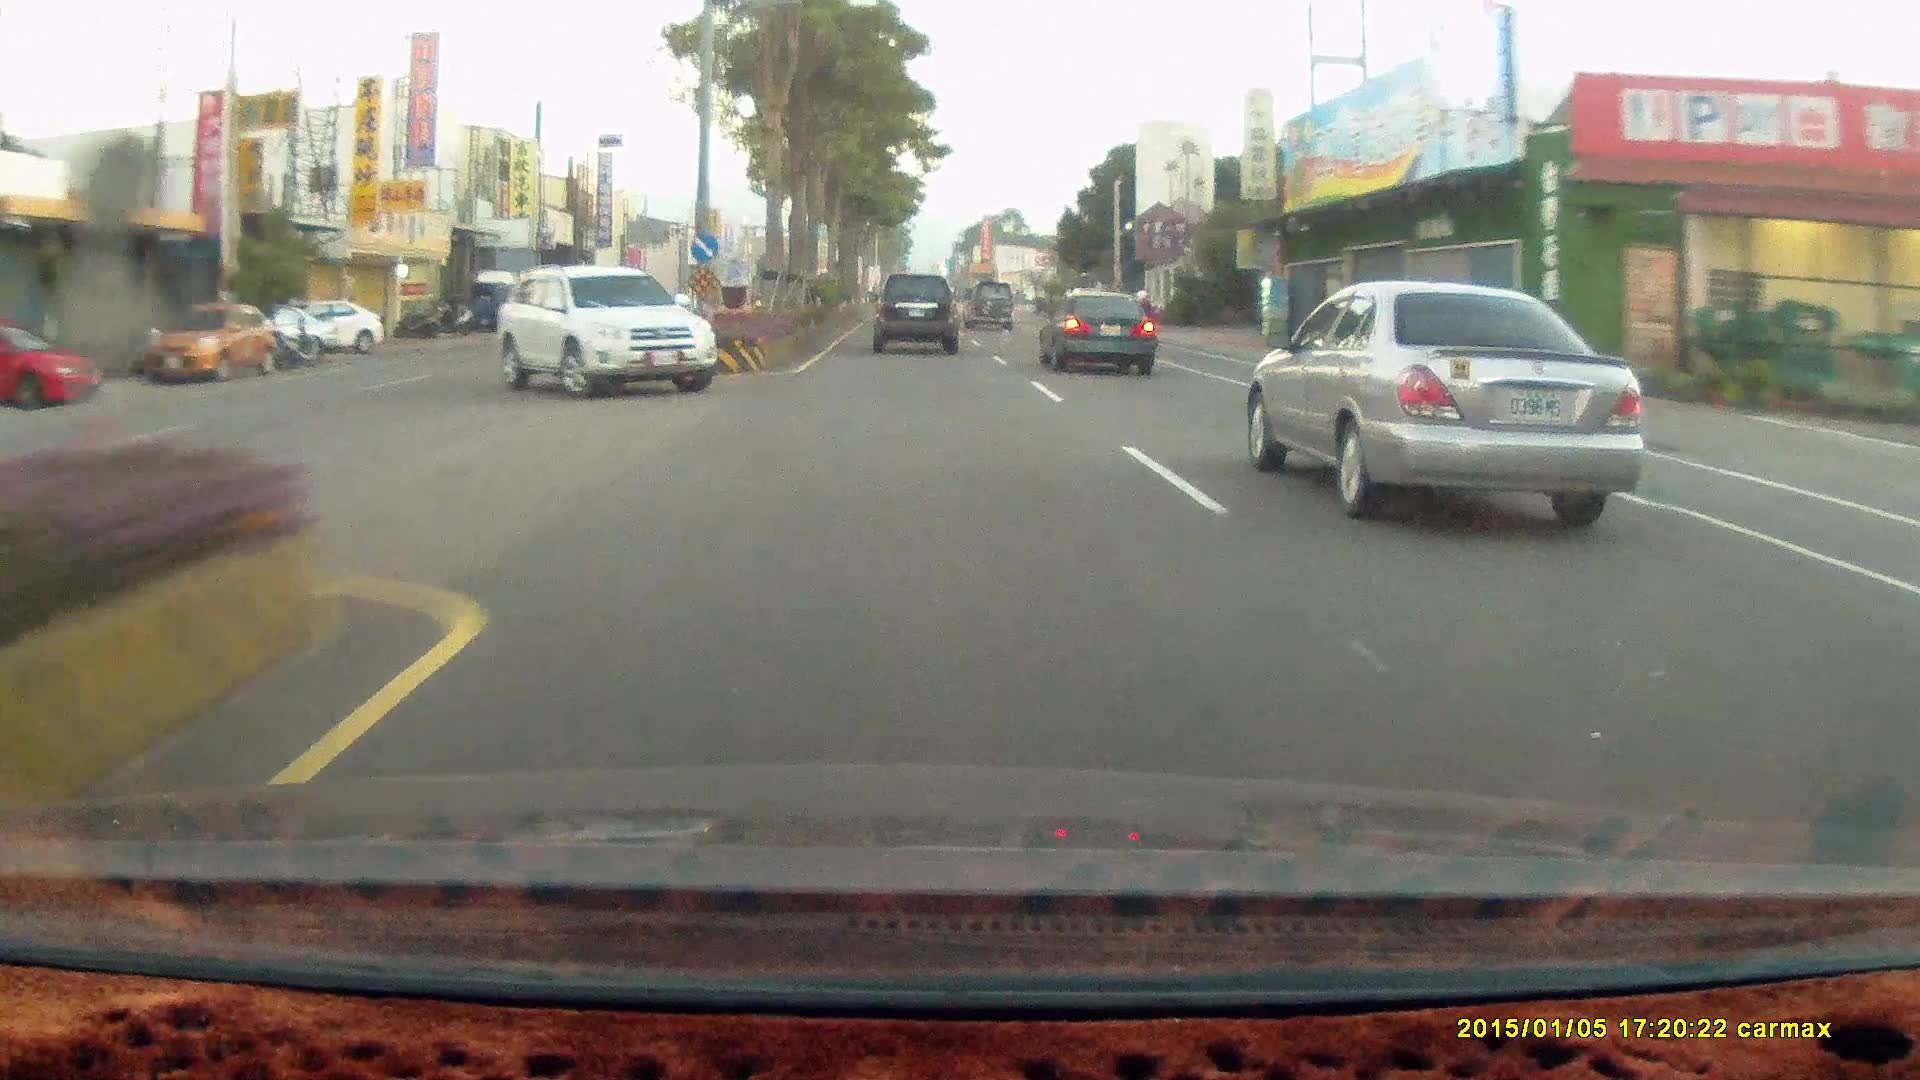vehicle: (1244, 277, 1644, 533), (491, 266, 721, 397), (495, 266, 720, 396), (136, 305, 277, 389), (140, 302, 280, 386), (1036, 287, 1155, 375), (1043, 295, 1158, 380), (1, 324, 102, 413), (872, 274, 967, 360), (872, 273, 957, 351), (269, 302, 386, 359), (266, 295, 382, 352), (961, 281, 1018, 335), (961, 280, 1015, 331)
